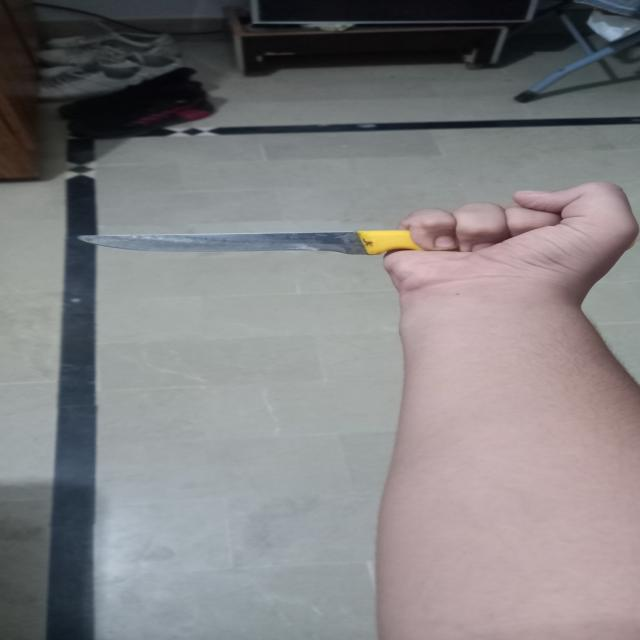Knife: (62, 198, 593, 264)
